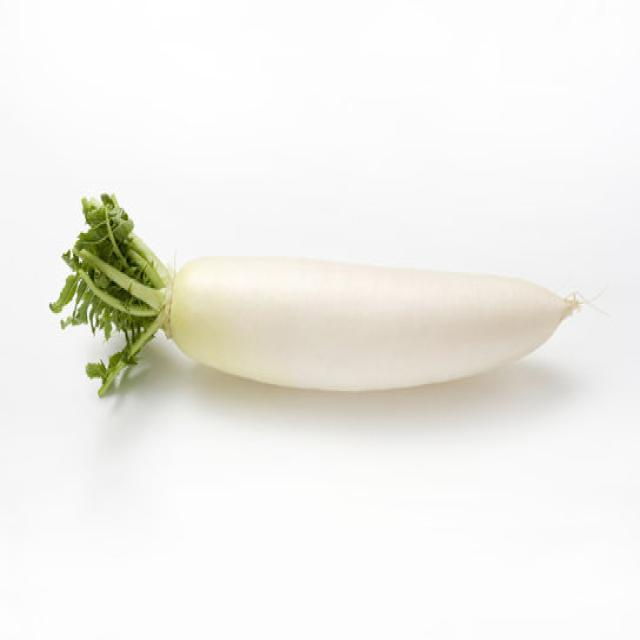Coriander Leaves: (48, 190, 172, 397)
Radish: (49, 190, 596, 398)
